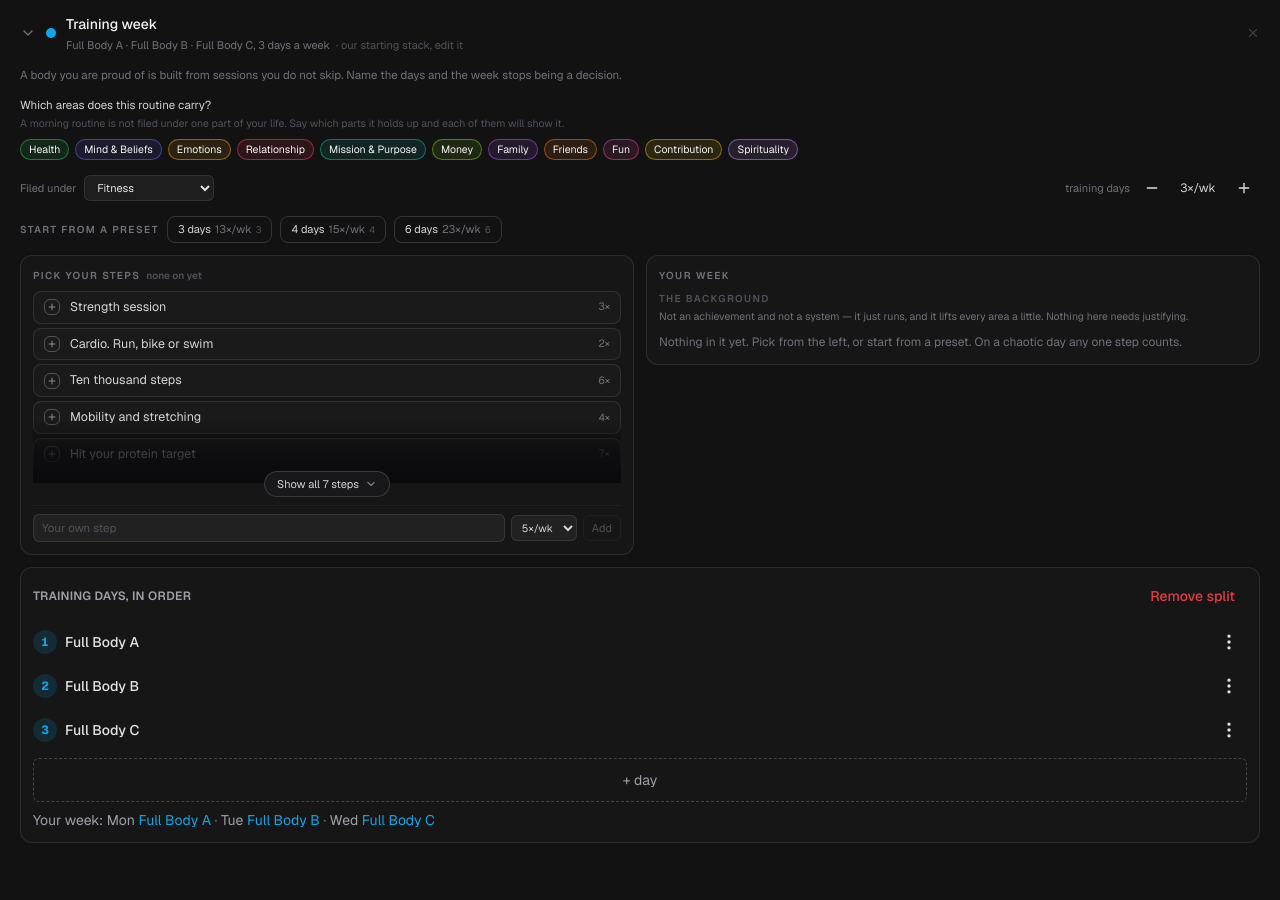
moving and removing a day › disables Move up on the first and Move down on the last
The image size is (1280, 900).
Step 1. Click the button named "Options for Full Body A" → (1229,642), box x1=1211 y1=624 x2=1247 y2=660
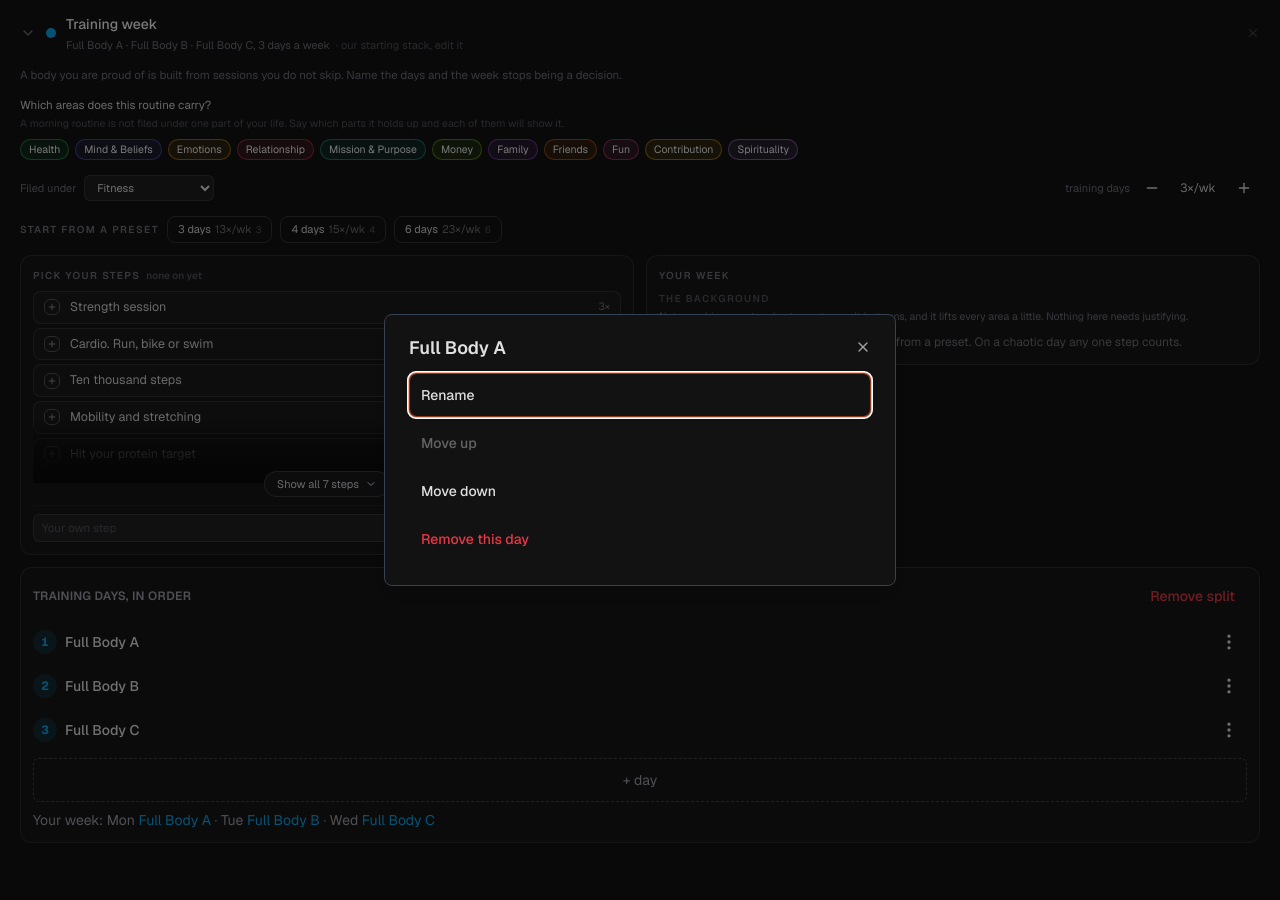
Expected: the button with test id "split-day-up" is disabled, x1=409 y1=421 x2=871 y2=465
Expected: the button with test id "split-day-down" is enabled, x1=409 y1=469 x2=871 y2=513
